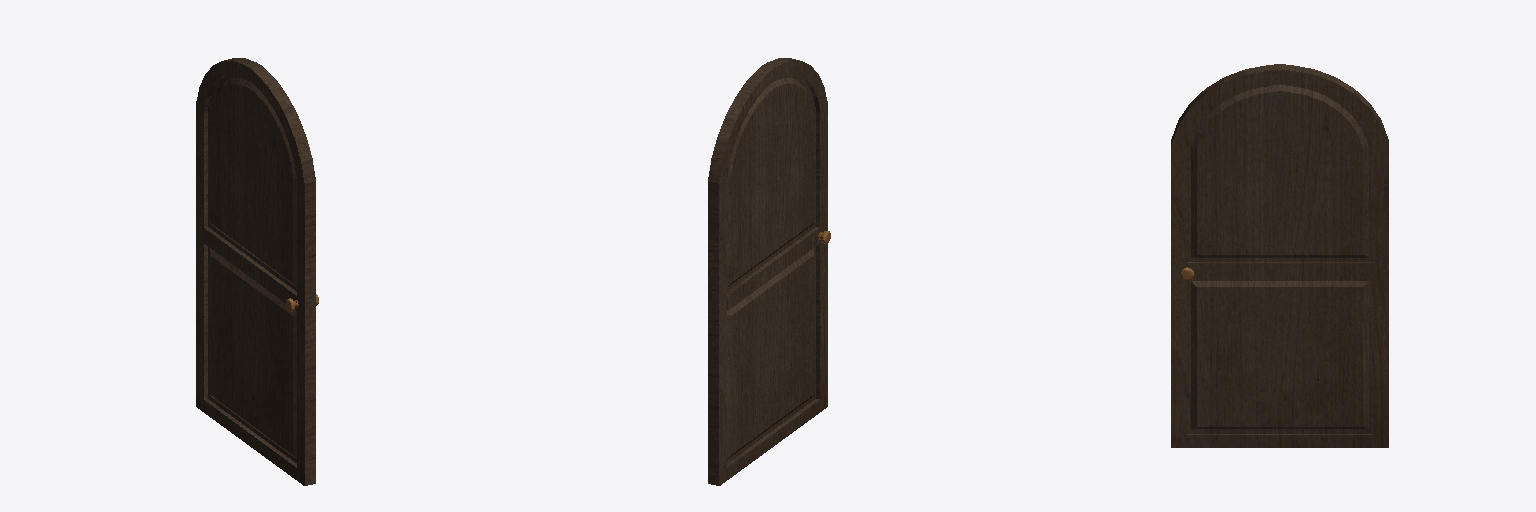
3 views of the same model, side by side, from view 1: azimuth 30°, elevation 25°; view 2: azimuth 150°, elevation 25°; view 3: azimuth 270°, elevation 25° (orthographic).
Parts seen in each view (by area): view 1: Door_02; view 2: Door_02; view 3: Door_02.
Boxes of the visible parts, box(x1,y1,x2,y2) form: Door_02: box(196, 58, 318, 485); Door_02: box(708, 58, 830, 485); Door_02: box(1171, 64, 1388, 447).
Bounding box in the file's own units: 16.5 × 214 × 111.
1 materials, 1 textured.